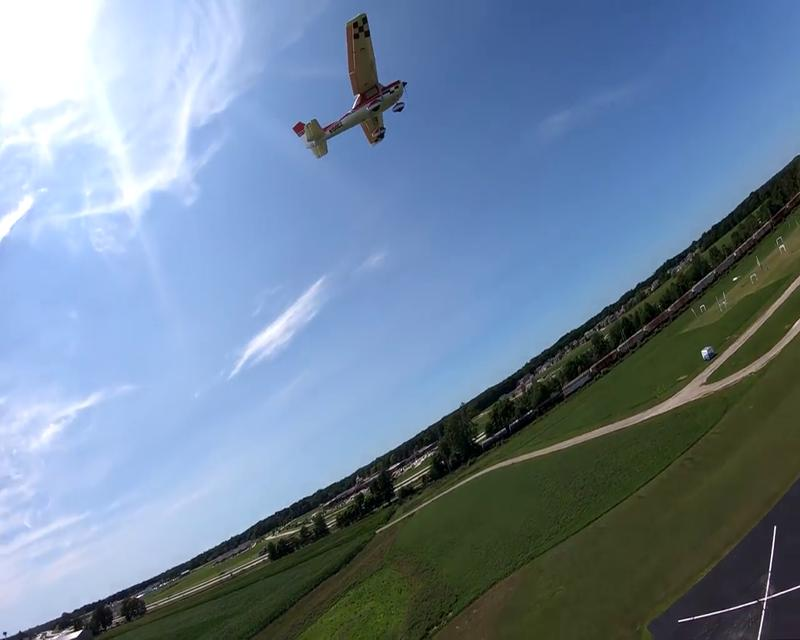UAV: (291, 11, 408, 159)
